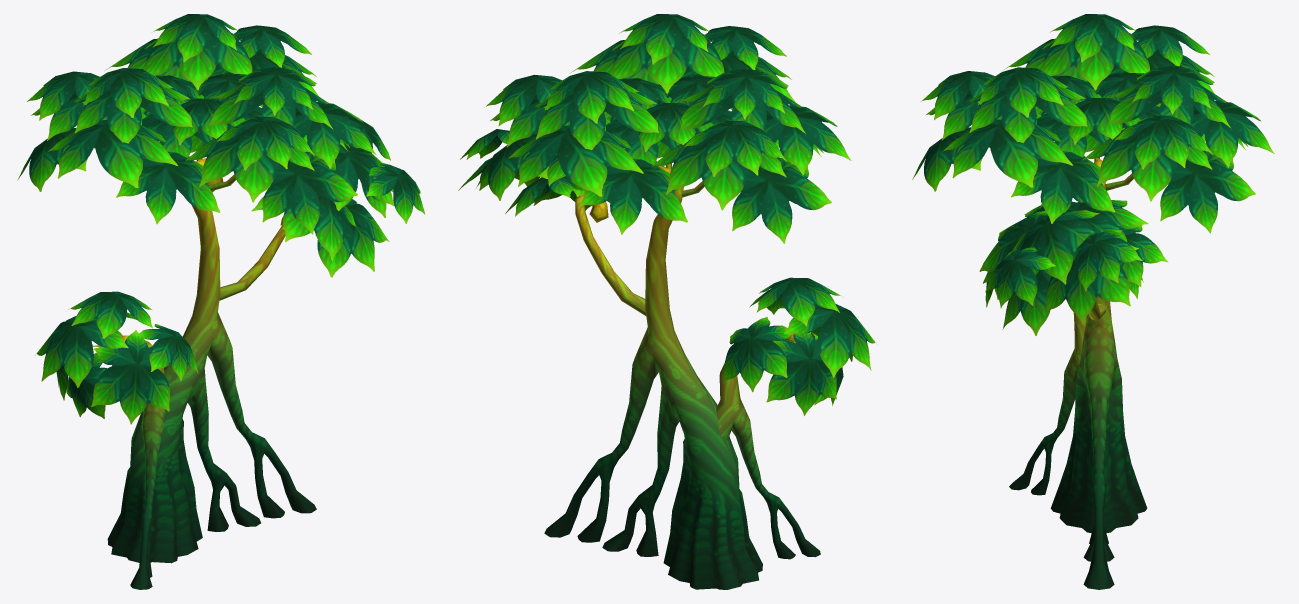
File: Green_Tree_02d.FBX
3 renders of one model, left to right at view 1: azimuth 30°, elevation 25°; view 2: azimuth 150°, elevation 25°; view 3: azimuth 270°, elevation 25°, orthographic. The views are drawn at different scales.
Parts seen in each view (by area): view 1: Green_Tree_02d; view 2: Green_Tree_02d; view 3: Green_Tree_02d.
Part boxes in pixels (bbox=[...]): Green_Tree_02d: bbox=[17, 14, 425, 589]; Green_Tree_02d: bbox=[458, 14, 877, 589]; Green_Tree_02d: bbox=[912, 14, 1274, 589].
Bounding box in the file's own units: 207 × 258 × 183.
